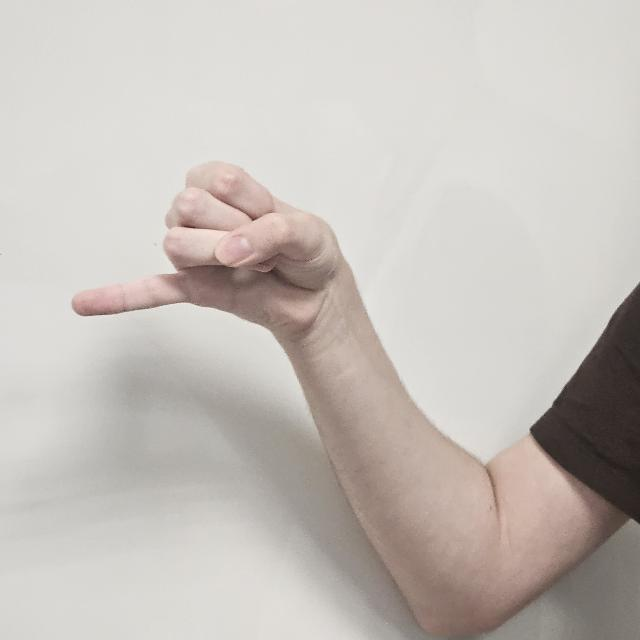Esquerda: (70, 144, 350, 386)
